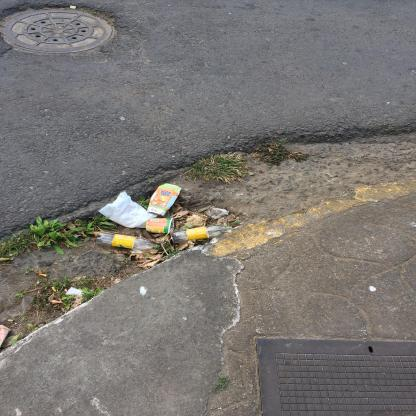karton: (148, 184, 183, 217), (147, 219, 176, 235)
plastik: (99, 192, 159, 230), (96, 233, 161, 251), (173, 226, 233, 244)
